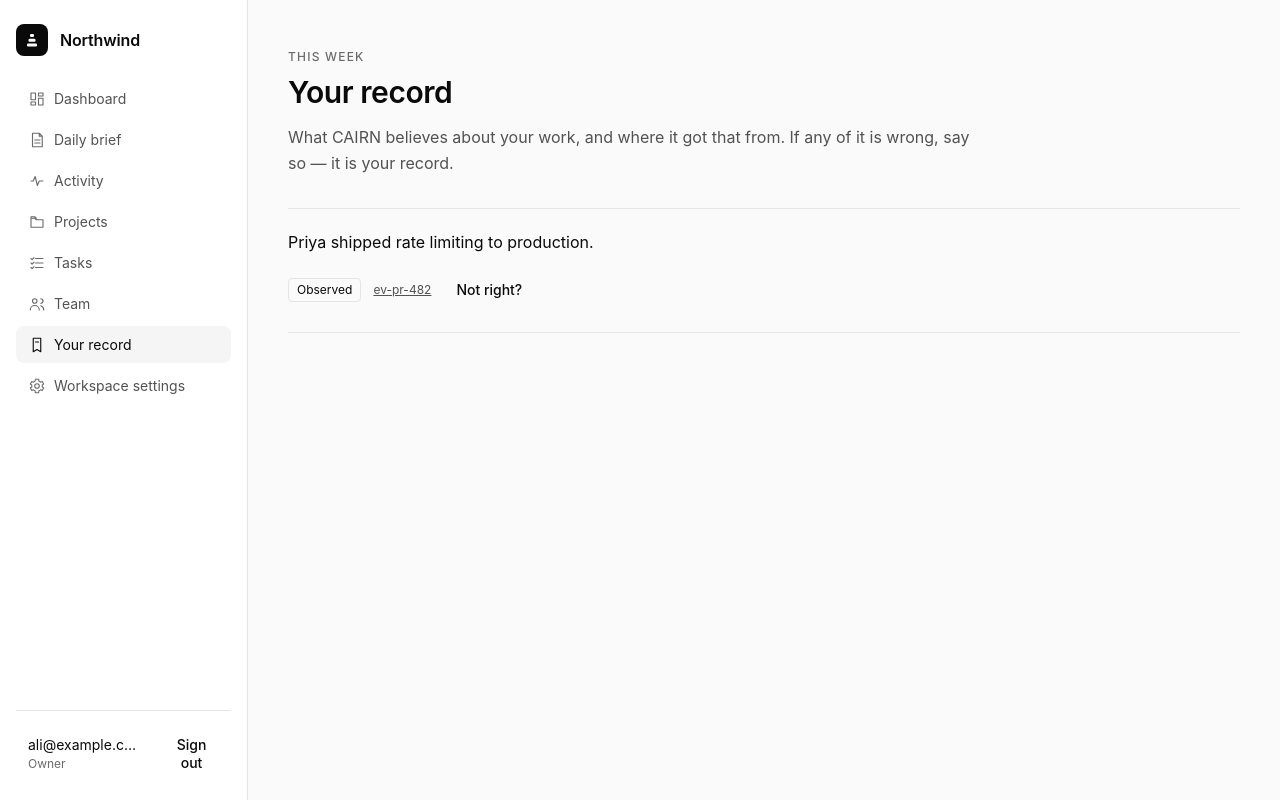
correcting › confirms in words rather than letting the row vanish
Click the button "Not right?".
click(489, 290)  # box [443,268,535,312]
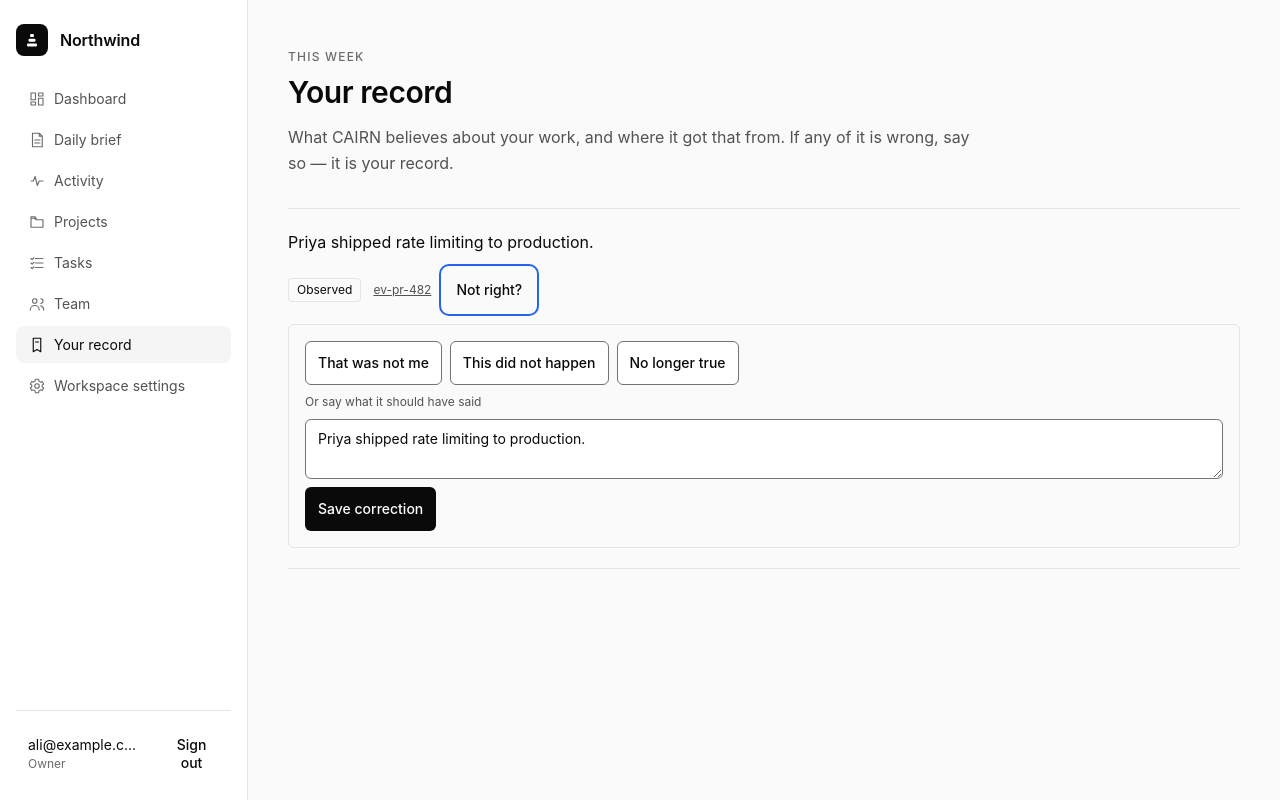
Click the button "This did not happen".
click(529, 363)  # box [450,341,608,385]
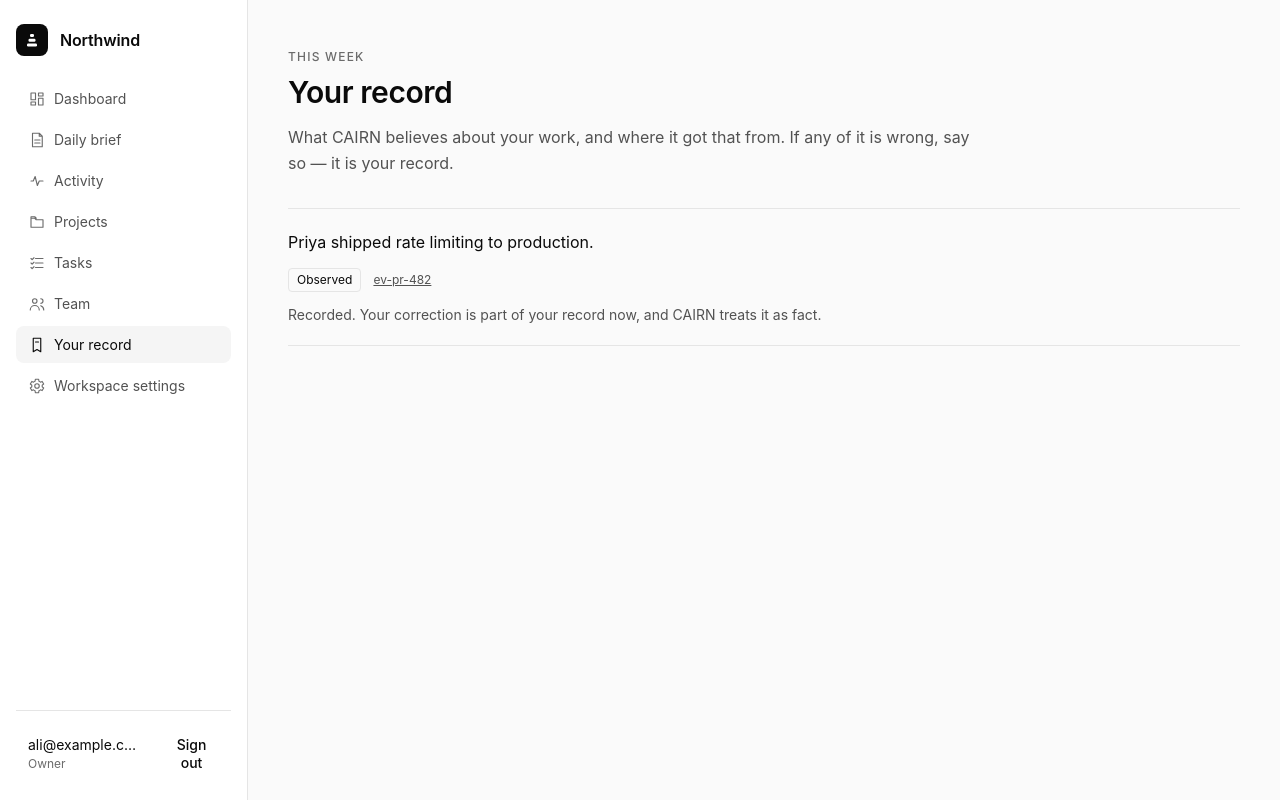
Check: the message shows "Recorded", box [288,306,822,323]
